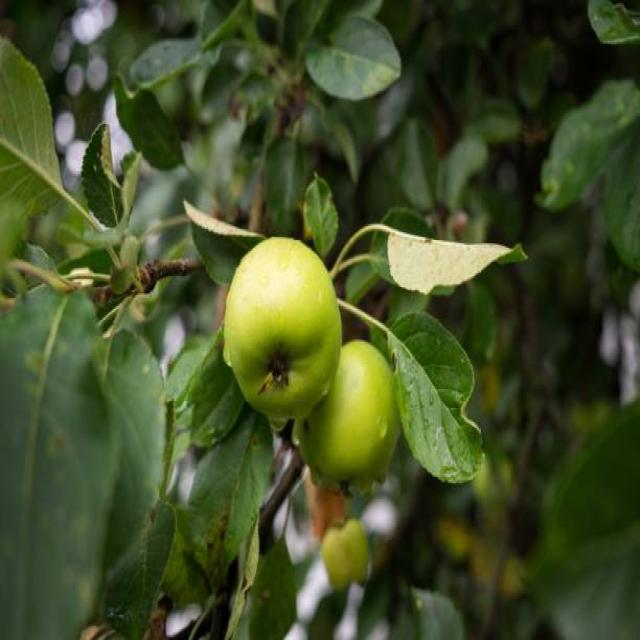Unripe: (223, 236, 340, 425)
